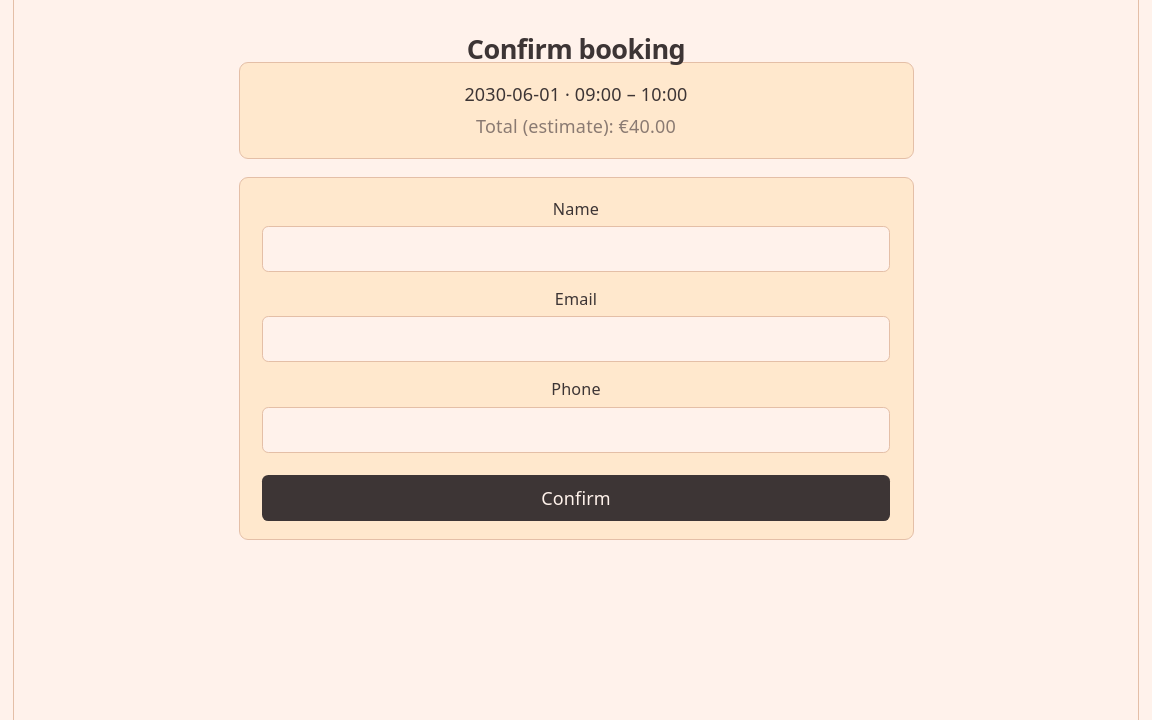
Test case: ClientConfirmView › submits booking and shows success with edit link
Type "Ada" into the field labelled "Name" at coordinates (576, 249), box [262,226,890,272]
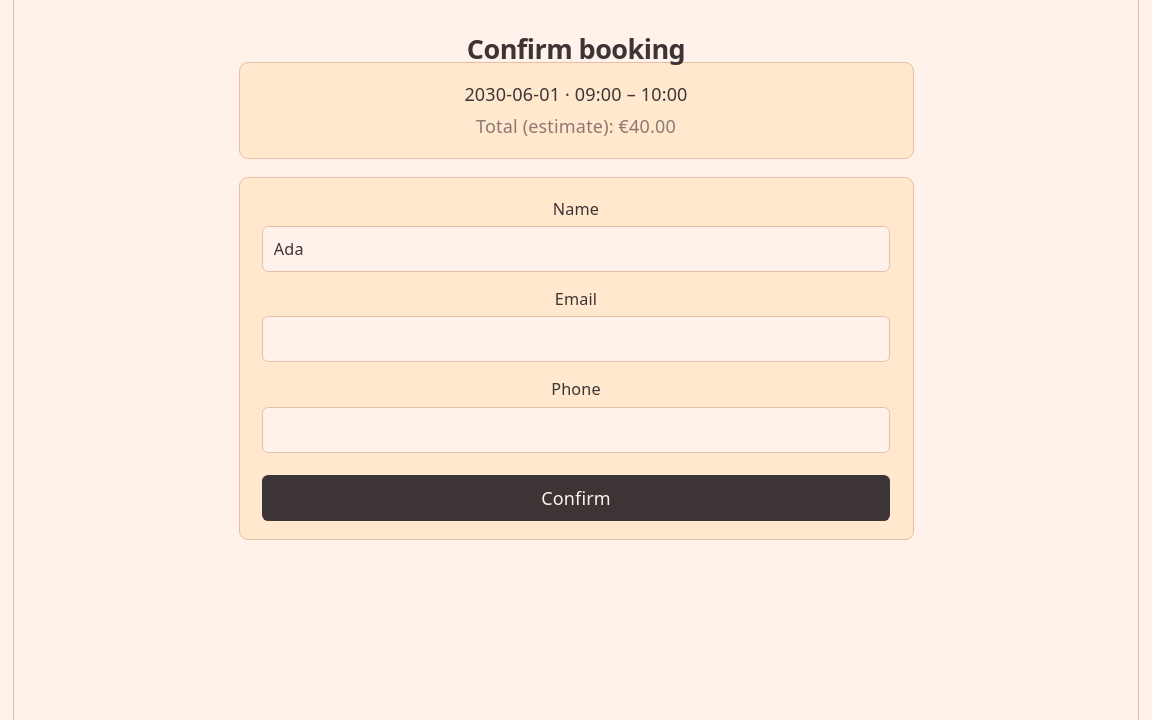
Type "ada@test.com" into the field labelled "Email" at coordinates (576, 339), box [262,316,890,362]
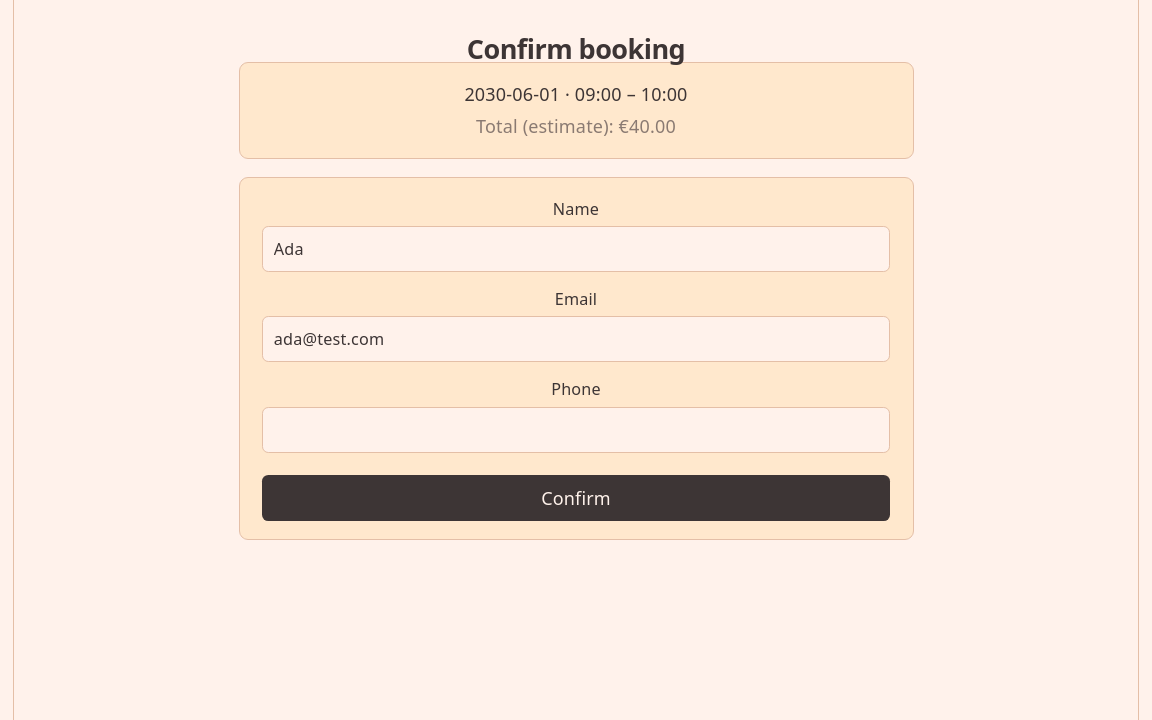
Type "555" into the field labelled "Phone" at coordinates (576, 430), box [262,406,890,453]
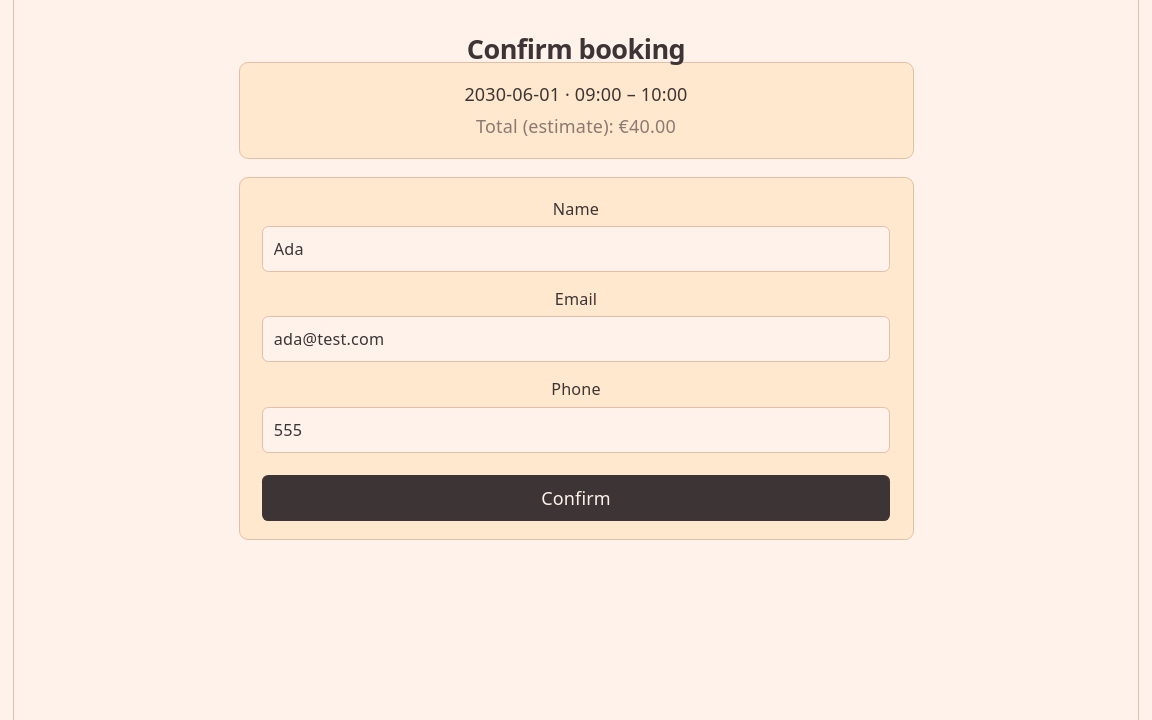
Submit the form, box [238,177,914,540]
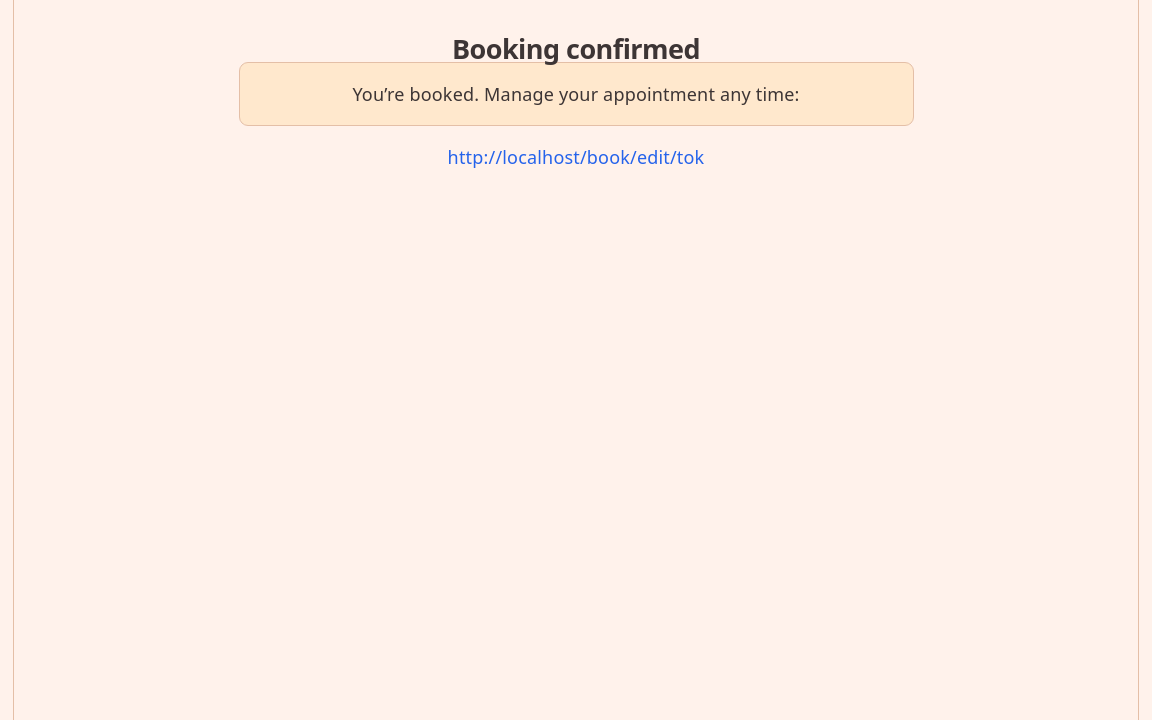
Now the text "Booking confirmed" is shown, box [452,30,700,67]
Now the text "/book/edit/tok" is shown, box [448,145,704,169]
